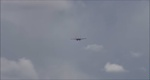maybay_muctieu: (71, 34, 88, 42)
